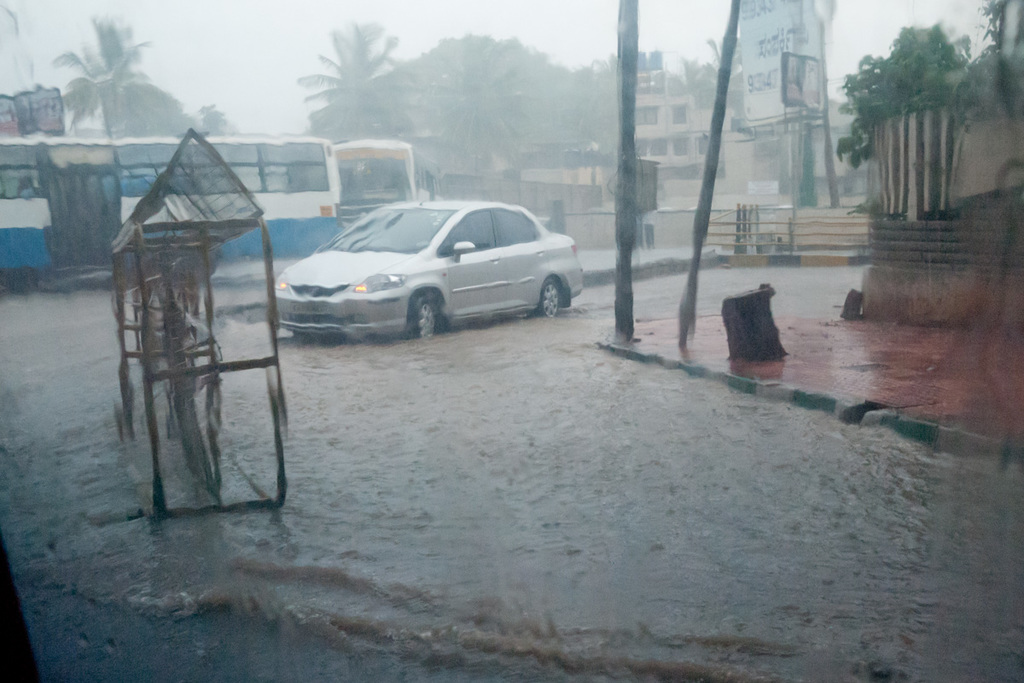Car: (270, 198, 582, 338)
